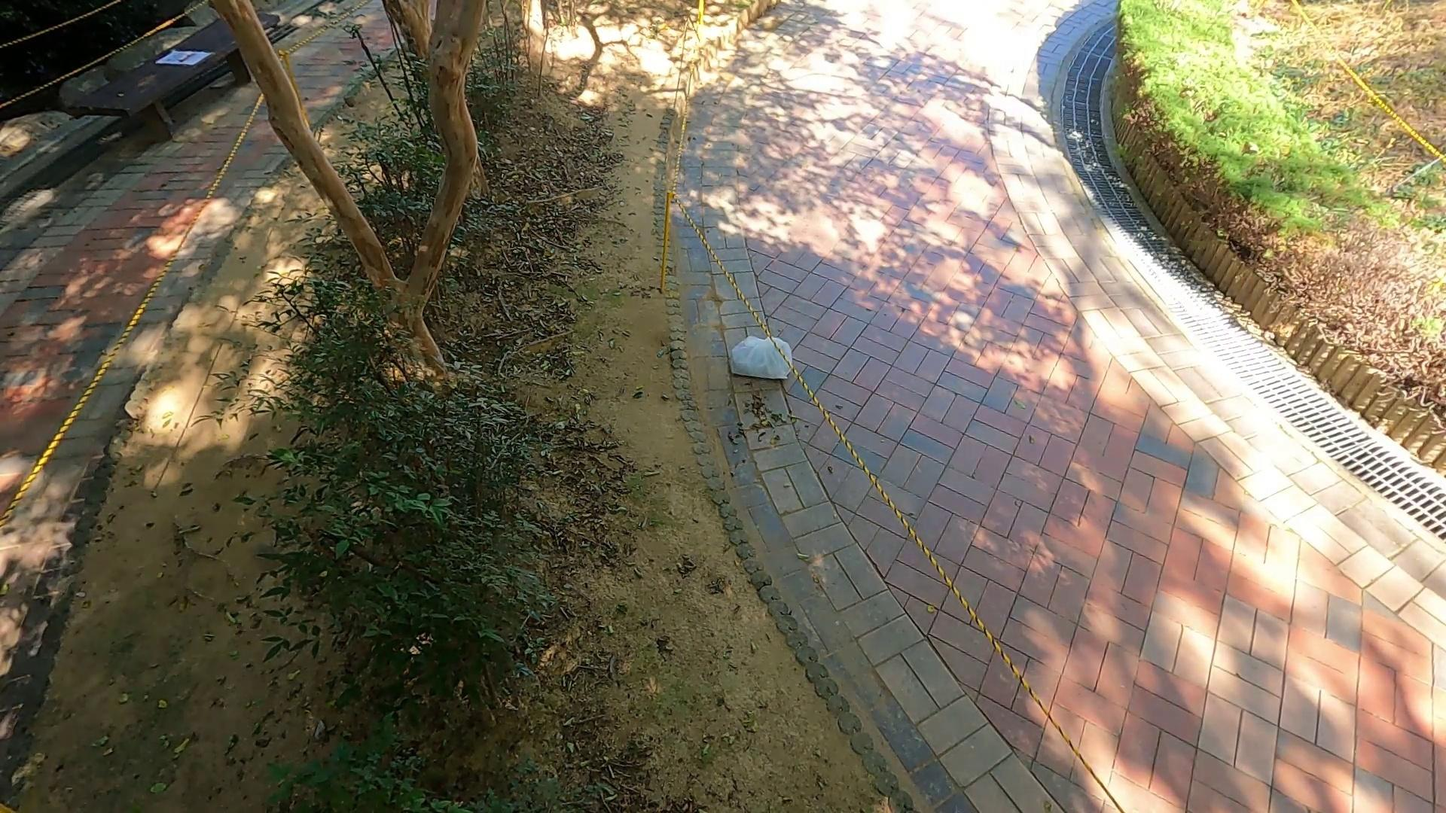trash: (727, 327, 796, 394)
